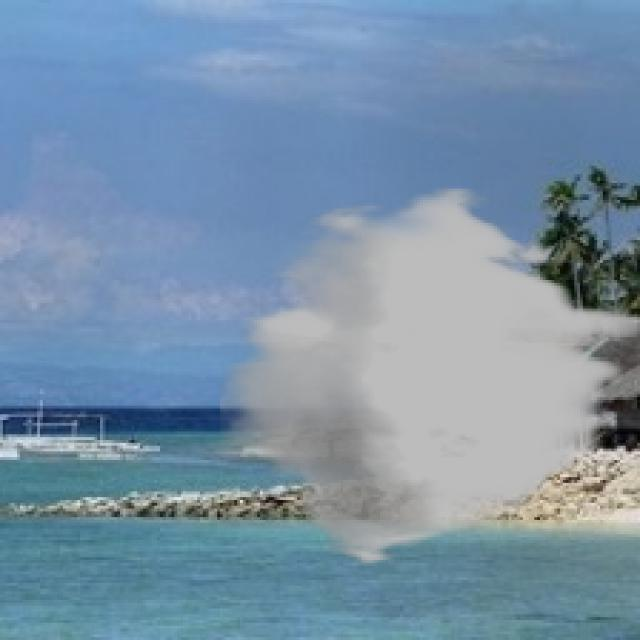smoke: (220, 186, 637, 568)
